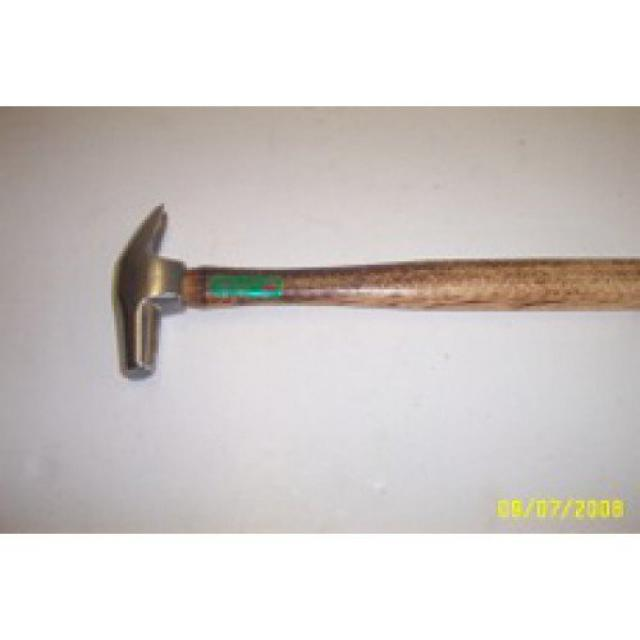hammer: (100, 196, 640, 388)
